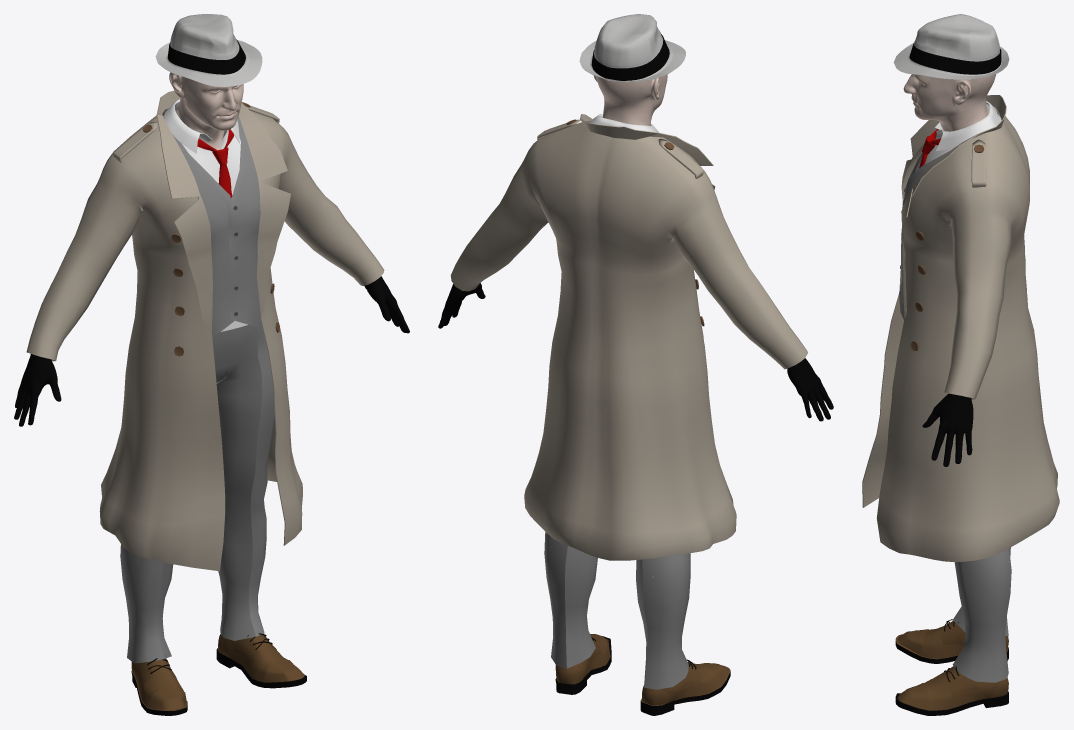
The model's file is HeroicMeshExport2.fbx.
3 renders of one model, left to right at view 1: azimuth 30°, elevation 25°; view 2: azimuth 150°, elevation 25°; view 3: azimuth 270°, elevation 25°, orthographic.
Visible parts, largest first — view 1: polySurface13, polySurface12, pPlane3, pPipe3, pCube1 (×2), wrap_body, wrap_head, polySurface1, polySurface14, pCube14; view 2: polySurface13, polySurface12, pPipe3, pCube1 (×2), wrap_head, wrap_body, polySurface14; view 3: polySurface13, polySurface12, pCube1 (×2), pPipe3, wrap_head, wrap_body, polySurface14, polySurface1, pPlane3, polySurface4, group3_pCube2, polySurface5.
Boxes of the visible parts, x1,y1,x2,y2 form: polySurface13: (26,90,384,571); polySurface12: (120,322,274,663); pPlane3: (162,113,261,336); pPipe3: (155,14,262,86); pCube1 (×2): (131,635,306,715); wrap_body: (14,107,409,426); wrap_head: (169,72,243,136); polySurface1: (163,99,247,331); polySurface14: (168,39,245,74); pCube14: (197,129,233,198); polySurface13: (450,114,807,560); polySurface12: (544,532,690,689); pPipe3: (579,14,685,81); pCube1 (×2): (555,634,730,715); wrap_head: (593,74,667,125); wrap_body: (438,283,833,577); polySurface14: (591,34,669,80); polySurface13: (862,95,1059,561); polySurface12: (952,547,1011,682); pCube1 (×2): (895,621,1008,715); pPipe3: (893,14,1009,79); wrap_head: (903,74,996,131); wrap_body: (922,109,989,466); polySurface14: (909,43,1001,74); polySurface1: (924,101,1001,164); pPlane3: (899,111,1000,319); polySurface4: (946,673,999,698); group3_pCube2: (971,139,986,187); polySurface5: (940,623,965,644).
Bounding box in the file's own units: 109 × 179 × 48.64.
